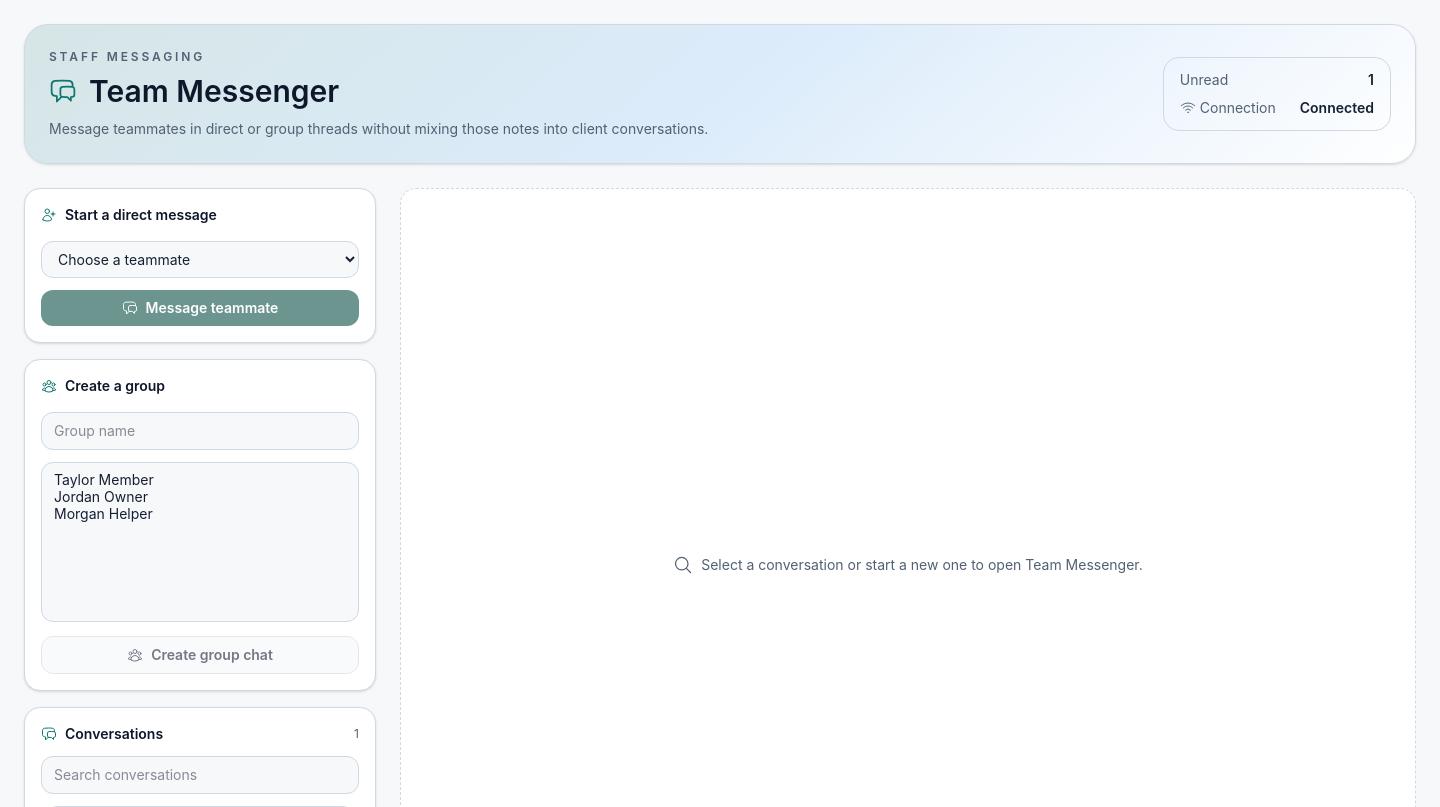
Scenario: TeamMessengerPage › disables the group launcher while pending and surfaces failures
This screenshot has width=1440, height=807.
Type "Coverage Crew" into the field with placeholder "Group name" at (200, 431), box [41, 412, 359, 450]
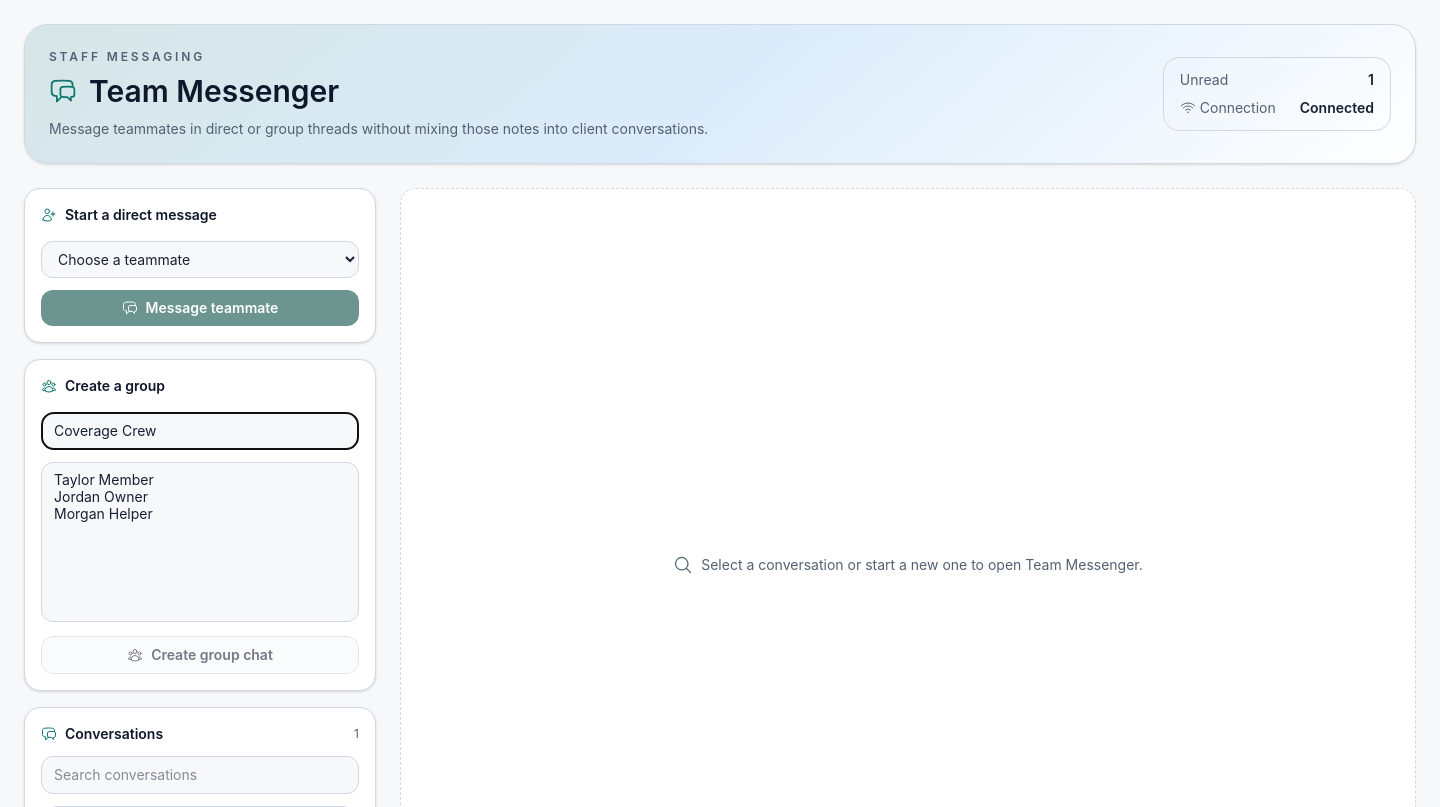
Select "contact-1, contact-2" in the dropdown below "Create a group" at (200, 542), box [41, 462, 359, 622]
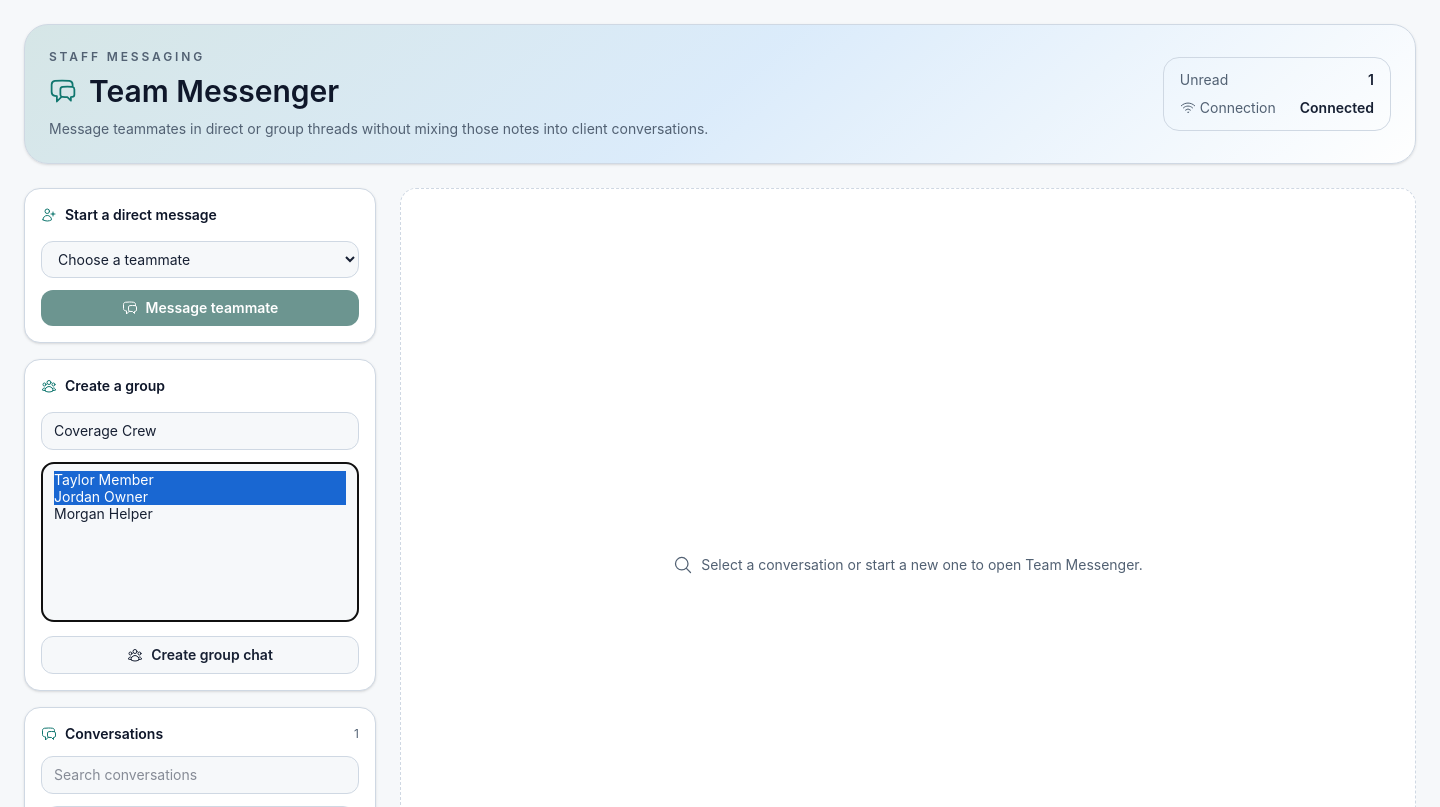
Click the button "Create group chat" at (200, 655), box [41, 636, 359, 674]
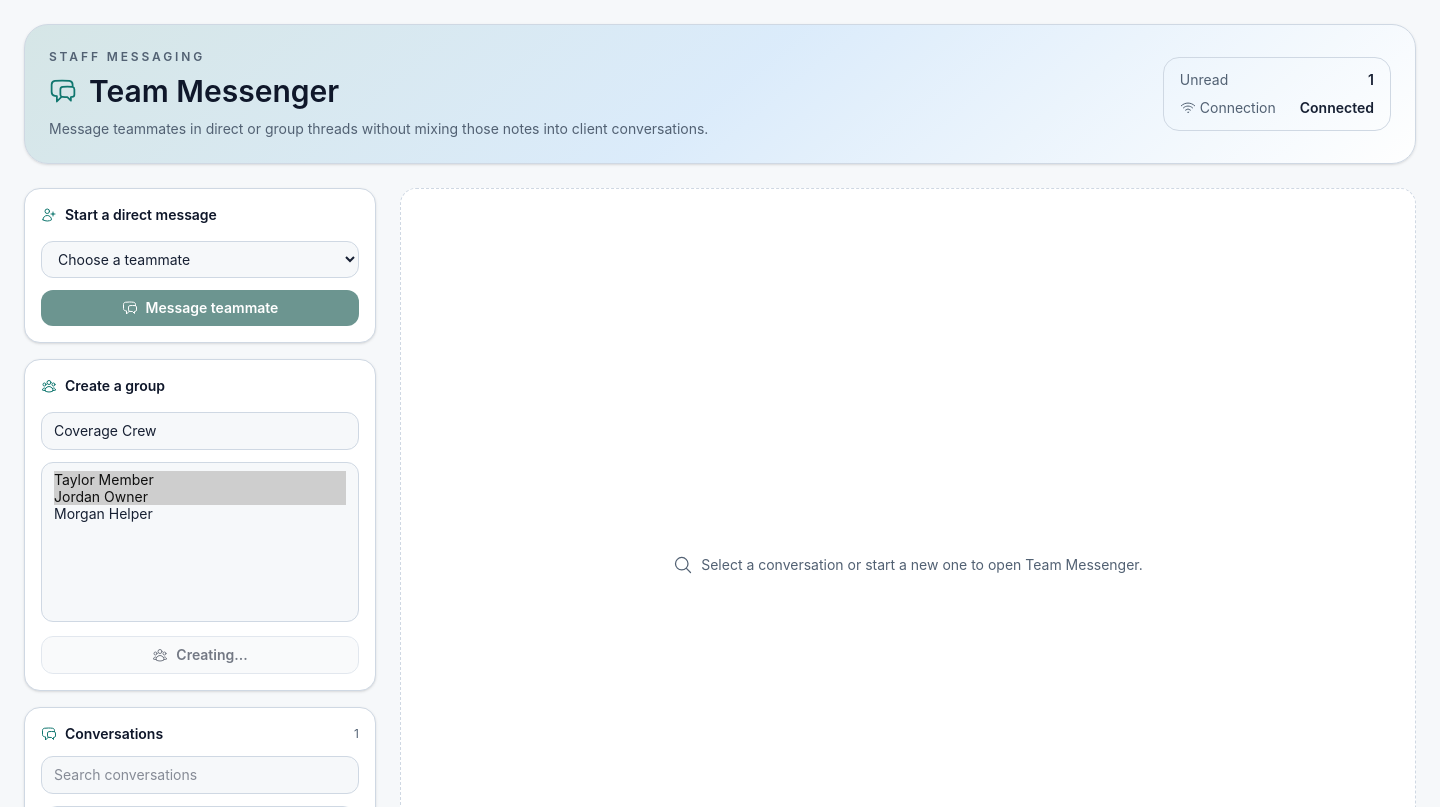
Result: the button named "Create group chat" is disabled
Click the button named "Create group chat" at (200, 655), box [41, 636, 359, 674]
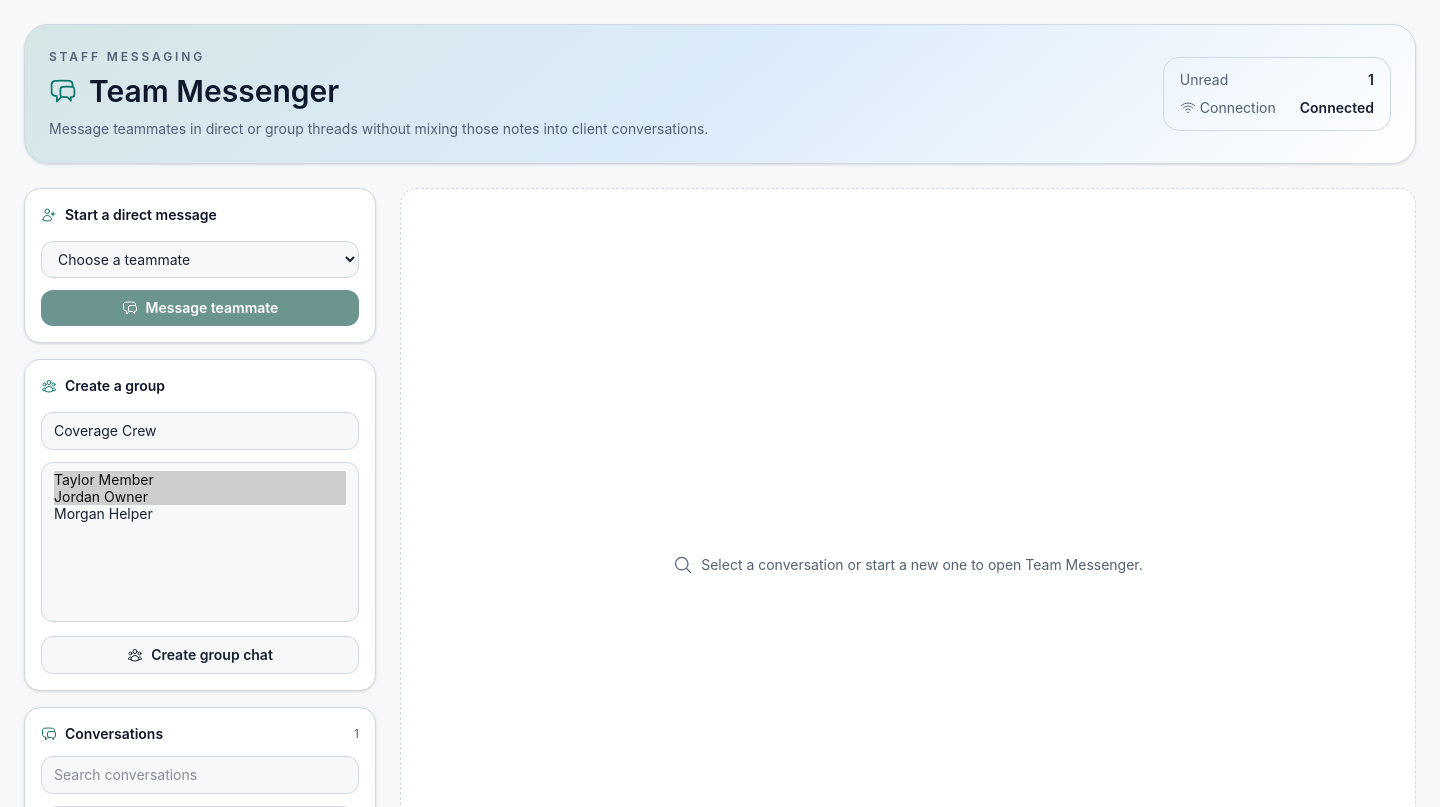
Result: the button "Create group chat" is enabled at [41, 636, 359, 674]
